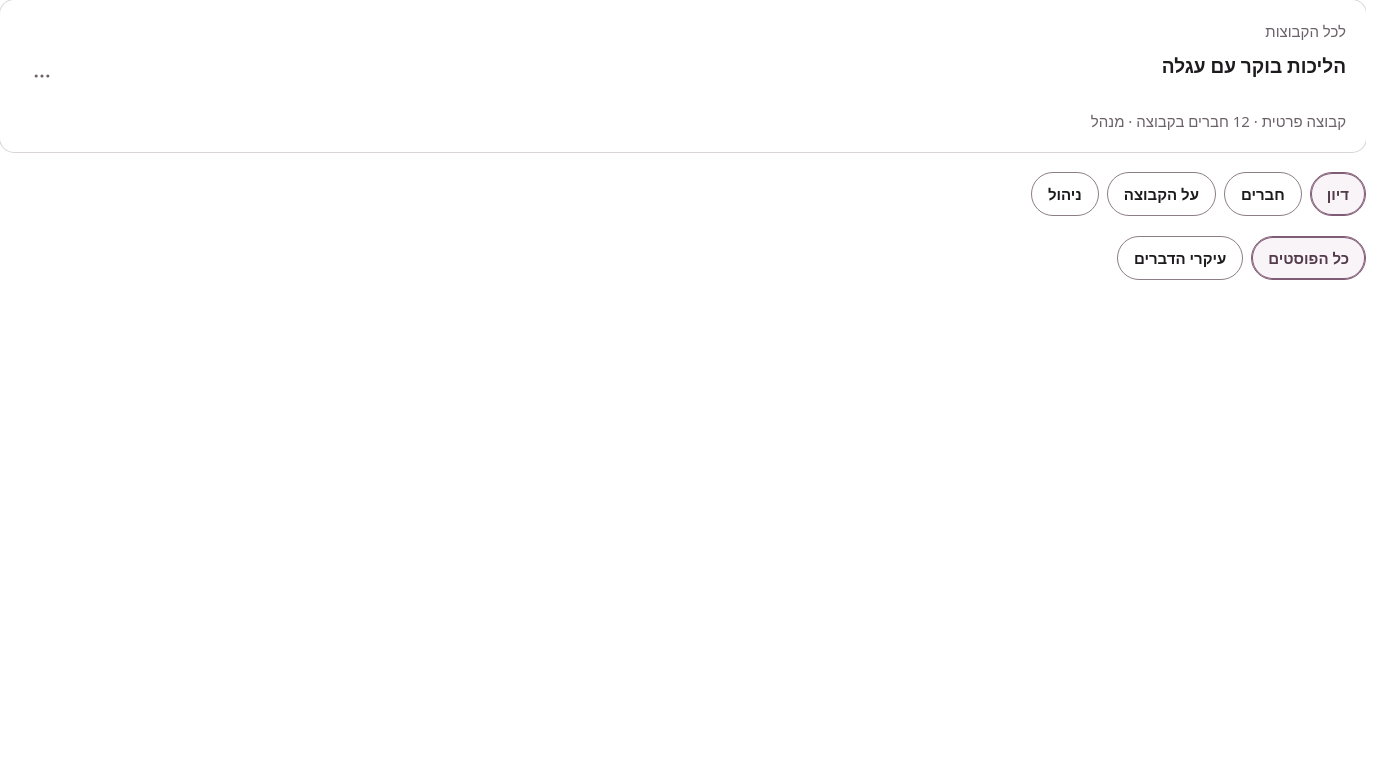
Test case: [FR-GRP-003 OP-070 AC-185 PG-035] a muted Group manager › [FR-GRP-003] an unmuted Admin keeps every control and sees no paused line
Click the tab "ניהול": (1065, 194) [1031, 172, 1099, 216]
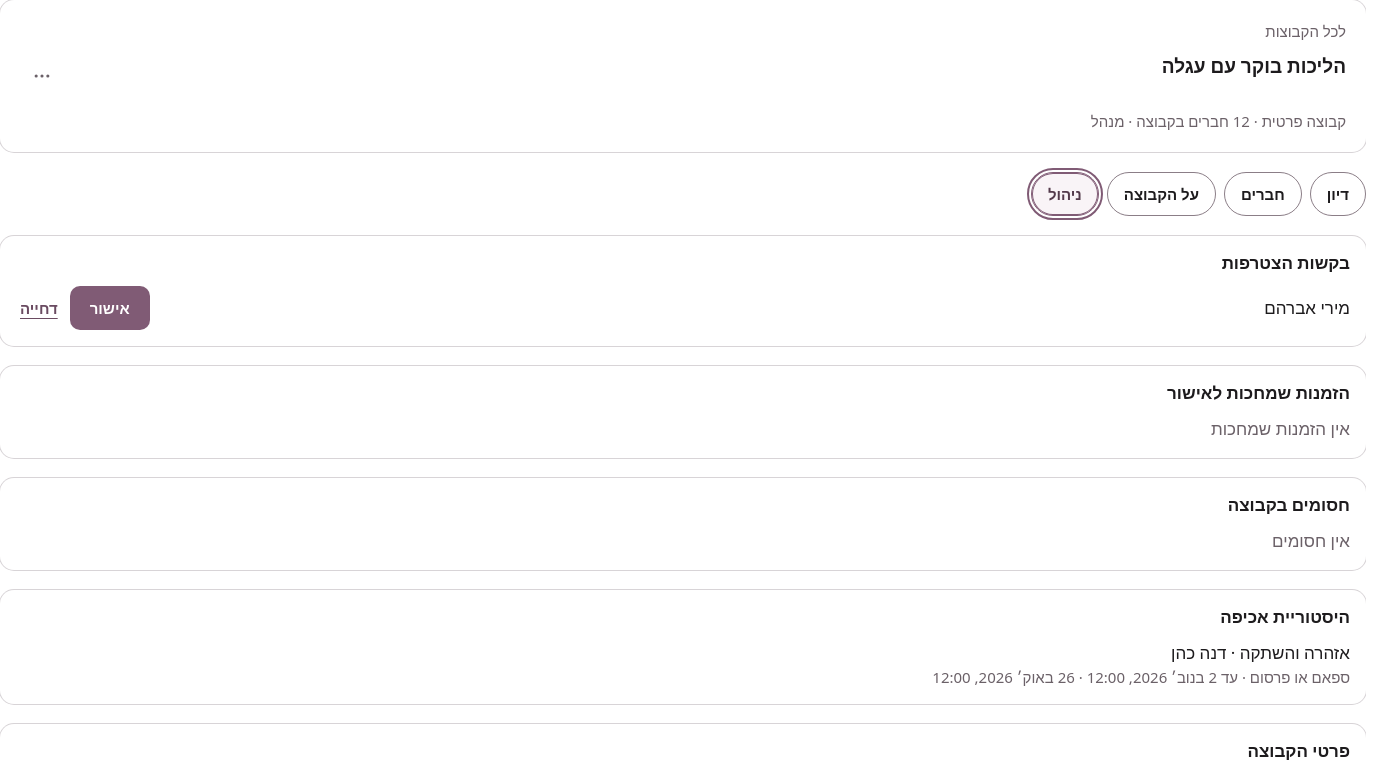
Now the text "מירי אברהם" is shown, box [1264, 295, 1350, 321]
Now the element "חסומים בקבוצה" is shown, box [0, 478, 1366, 570]
Click the tab "חברים": (1263, 194) [1224, 172, 1302, 216]
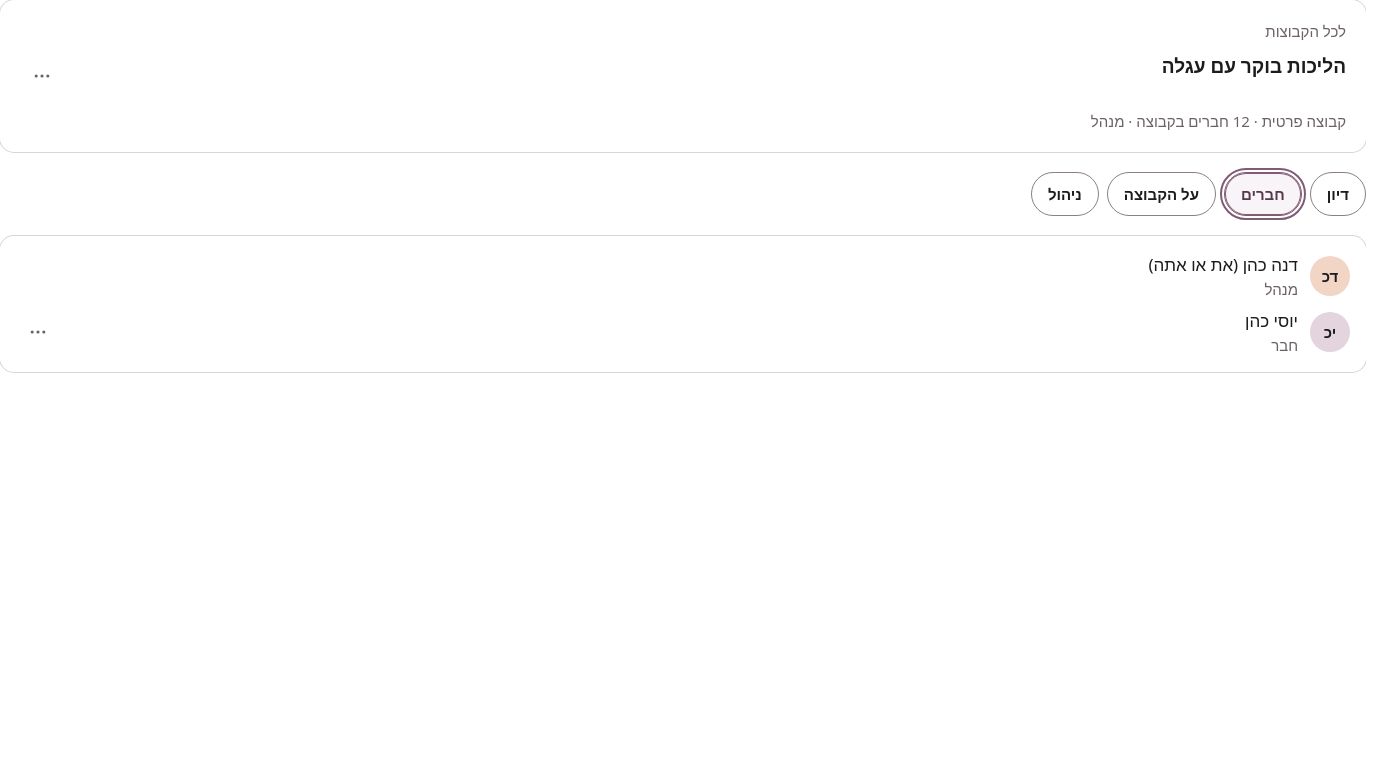
Now the button named "פעולות על יוסי כהן" is shown, box [16, 310, 60, 354]
